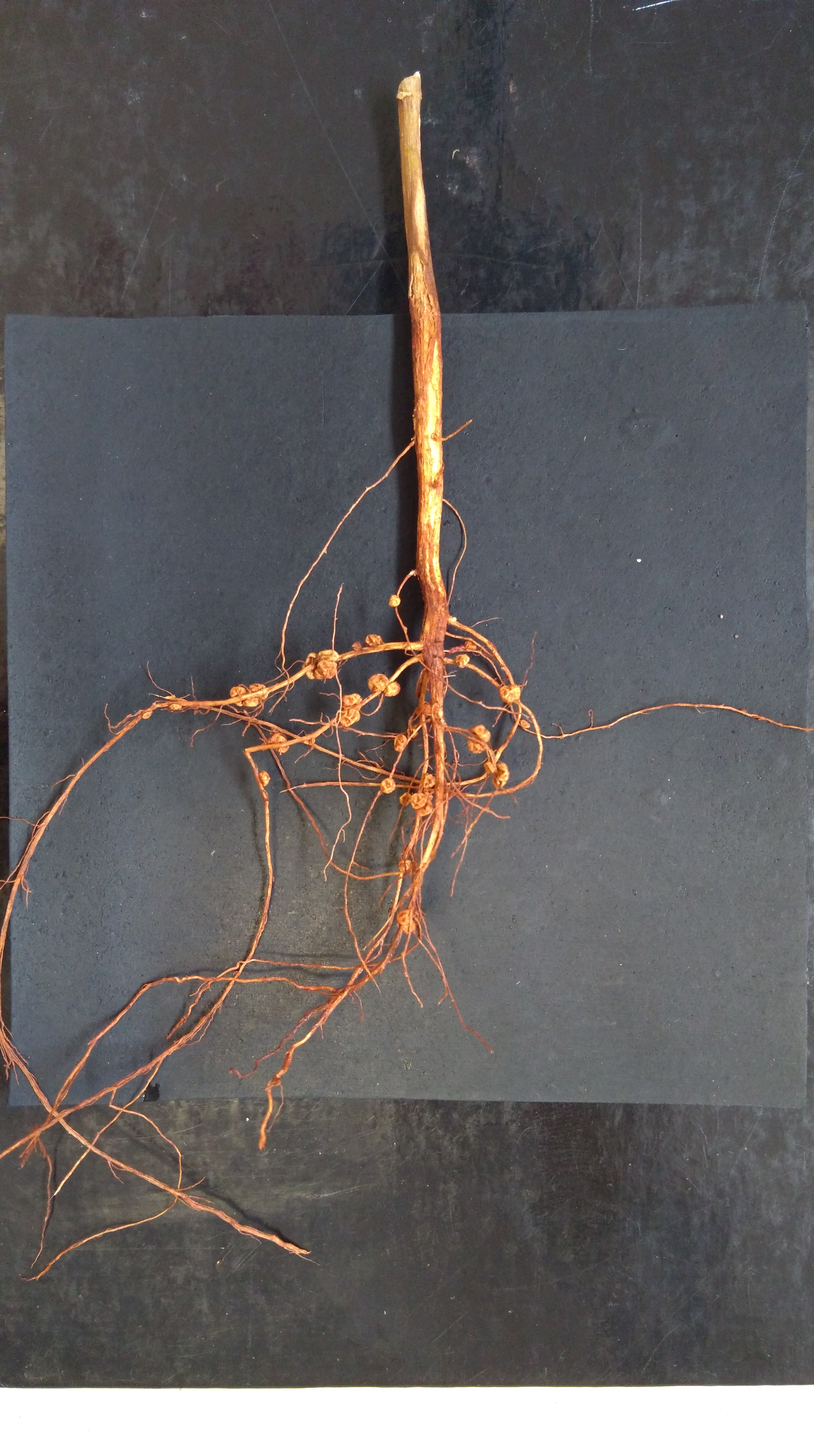nodule: (492, 760, 511, 790), (367, 671, 390, 694), (498, 683, 522, 705), (337, 708, 362, 728), (316, 659, 338, 681), (269, 731, 290, 754), (301, 651, 316, 681), (471, 723, 491, 744), (228, 685, 247, 707), (378, 776, 397, 796), (341, 692, 363, 709), (409, 791, 428, 810), (466, 738, 487, 755), (364, 632, 386, 648), (382, 680, 401, 698), (415, 799, 433, 818), (414, 702, 434, 719), (394, 907, 411, 925), (393, 733, 408, 753), (454, 653, 471, 670), (421, 771, 437, 789), (399, 919, 417, 935), (316, 649, 340, 661), (257, 769, 272, 788), (430, 701, 444, 721), (398, 857, 413, 873), (241, 696, 261, 707), (248, 682, 268, 693), (387, 594, 402, 608), (398, 791, 411, 807), (463, 639, 478, 652), (483, 761, 496, 774), (518, 718, 531, 730), (351, 640, 363, 652), (313, 668, 325, 680), (409, 727, 419, 740), (168, 703, 183, 711), (141, 711, 154, 720)
